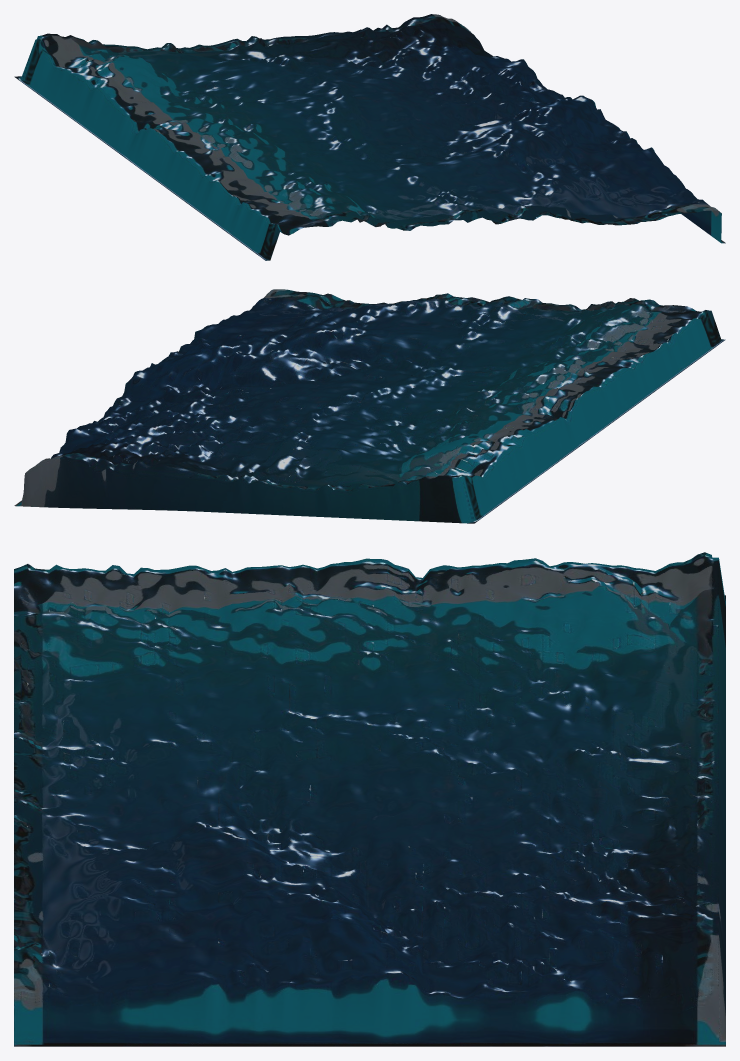
File: water.glb
3 renders of one model, top to bottom at view 1: azimuth 30°, elevation 25°; view 2: azimuth 150°, elevation 25°; view 3: azimuth 270°, elevation 25°, orthographic. The views are drawn at different scales.
Parts seen in each view (by area): view 1: Plane.002; view 2: Plane.002; view 3: Plane.002.
Part boxes in pixels (x1,y1,x2,y2): Plane.002: (14,14,725,260); Plane.002: (14,289,725,523); Plane.002: (14,552,725,1046).
Bounding box in the file's own units: 2.3 × 0.6353 × 2.18.
Materials: 1 (1 with a texture image).
